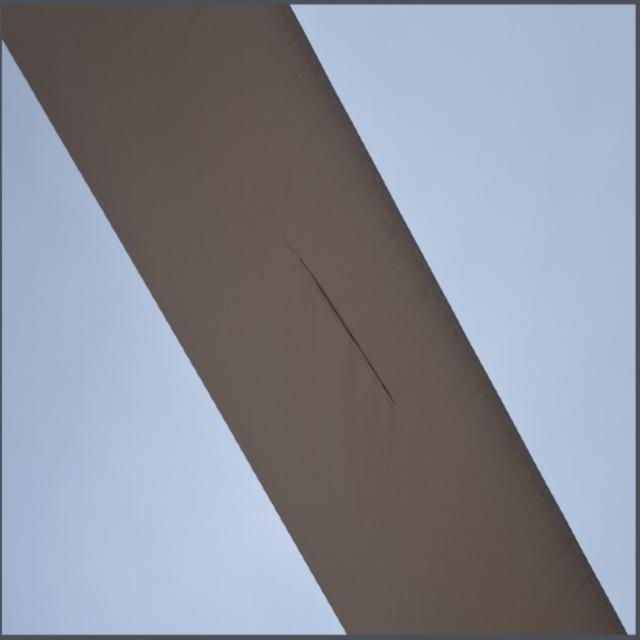Crack: (294, 248, 398, 408)
